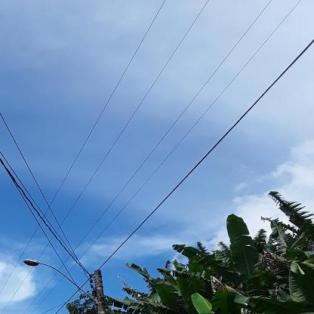Poste: (84, 262, 137, 314)
